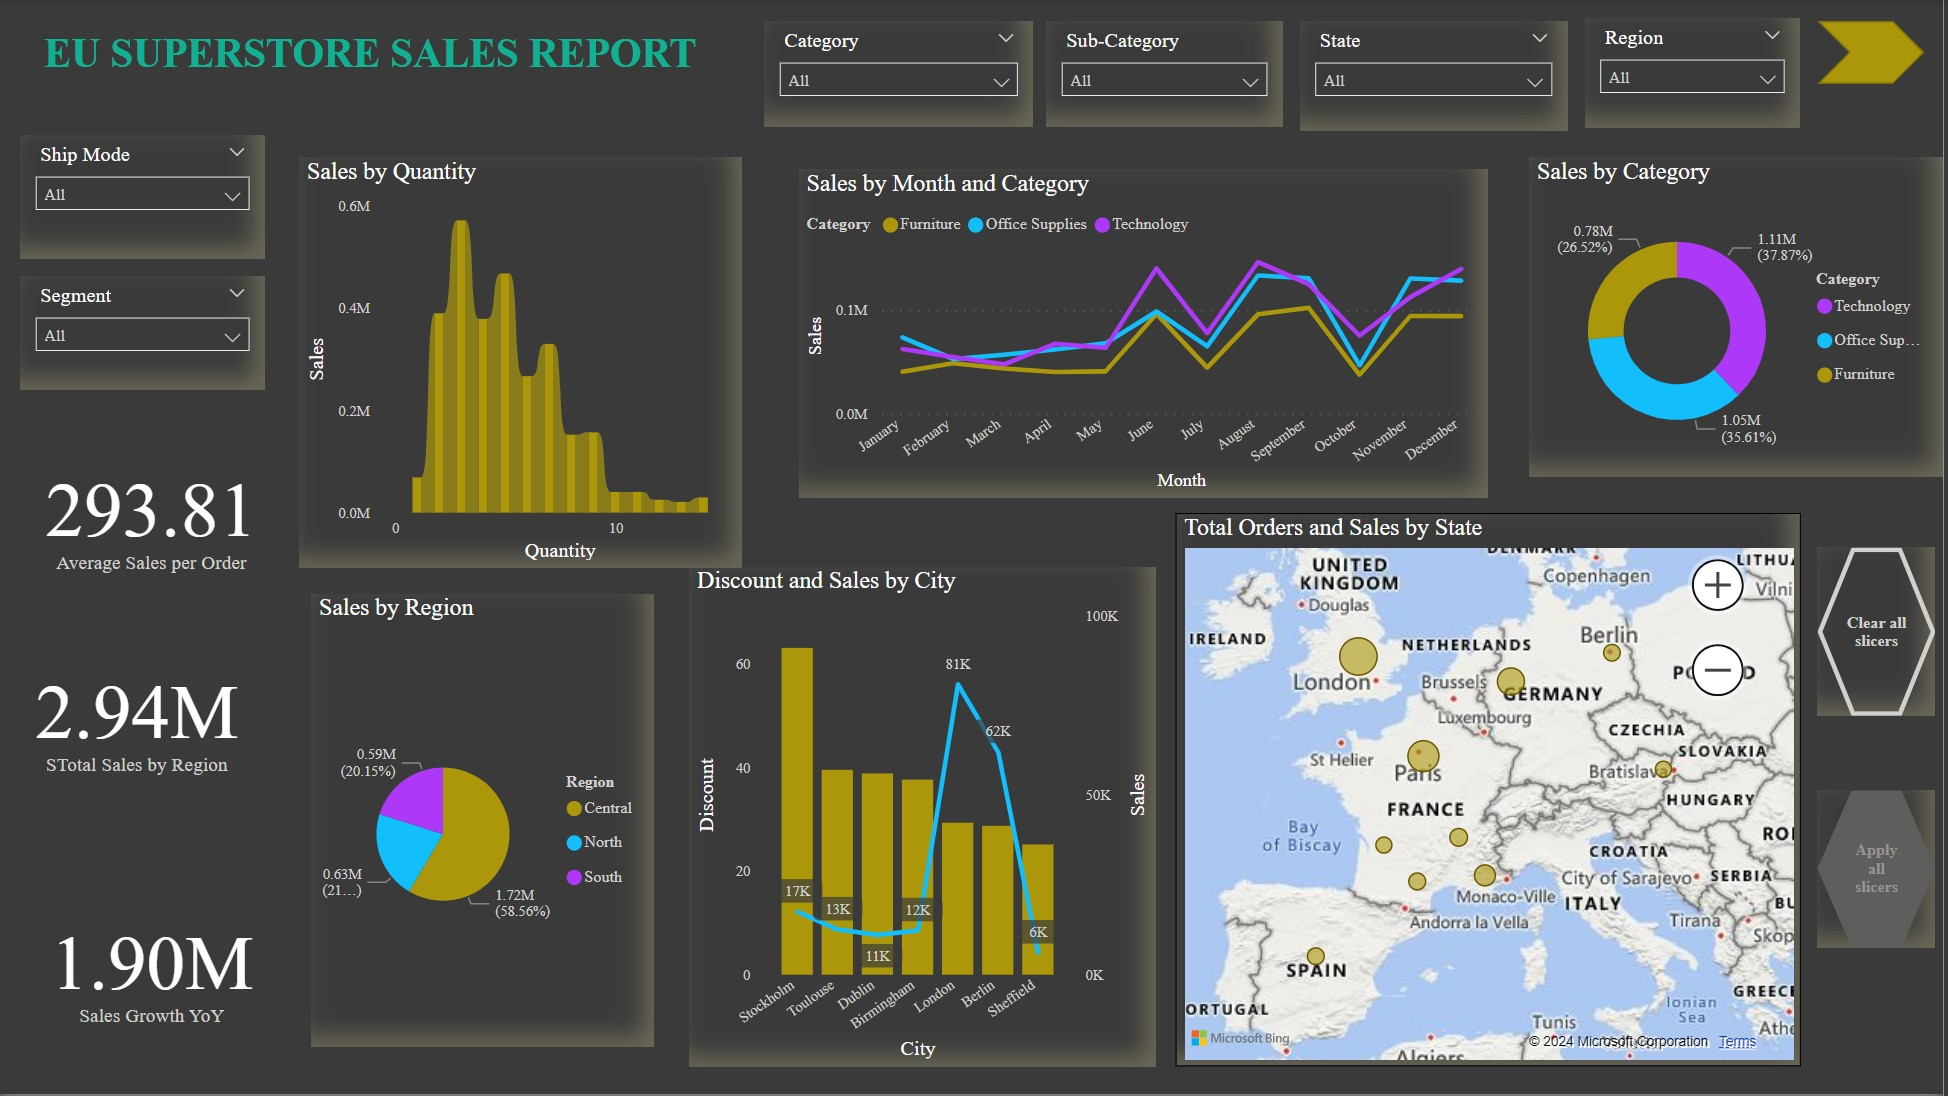

This screenshot's page, from the dashboard's own definition file:
{"tool":"powerbi","page":{"name":"Sales","canvas":[1280,720],"ordinal":0},"visuals":[{"type":"pieChart","fields":{"Category":["Orders.Region"],"Y":["Sum(Orders.Sales)"]},"box":[206.3,390.9,225.4,297.9],"z":0},{"type":"donutChart","fields":{"Category":["Orders.Category"],"Y":["Sum(Orders.Sales)"]},"box":[1007.3,103.4,272.4,210.1],"z":1000},{"type":"lineChart","fields":{"Y":["Sum(Orders.Sales)"],"Category":["Orders.Order Date.Variation.Date Hierarchy.Month"],"Series":["Orders.Category"]},"box":[527,111.2,453.6,215.7],"z":2000},{"type":"lineClusteredColumnComboChart","fields":{"Category":["Orders.City"],"Y":["Sum(Orders.Discount)"],"Y2":["Sum(Orders.Sales)"]},"box":[454.5,373.1,306.8,328.5],"z":3000},{"type":"ribbonChart","fields":{"Category":["Orders.Quantity"],"Y":["Sum(Orders.Sales)"]},"box":[198.6,103.1,291.6,269.9],"z":4000},{"type":"textbox","box":[10.7,13.8,467.8,59.6],"z":5000},{"type":"card","fields":{"Values":["Orders.Sales Growth YoY"]},"box":[10.2,581.9,182.1,107],"z":6000},{"type":"card","fields":{"Values":["Orders.STotal Sales by Region"]},"box":[0,416.3,182.1,108.2],"z":7000},{"type":"card","fields":{"Values":["Orders.Average Sales per Order"]},"box":[8.9,283.9,183.3,107],"z":8000},{"type":"slicer","fields":{"Values":["Orders.Category"]},"box":[504.2,14,177,70],"z":9000},{"type":"slicer","fields":{"Values":["Orders.Segment"]},"box":[15.3,181.9,160.5,74.9],"z":10000},{"type":"slicer","fields":{"Values":["Orders.State"]},"box":[856.9,14,175.7,72.6],"z":11000},{"type":"slicer","fields":{"Values":["Orders.Ship Mode"]},"box":[15.3,88.7,160.5,81],"z":12000},{"type":"slicer","fields":{"Values":["Orders.Region"]},"box":[1044,11.5,141.3,72.6],"z":13000},{"type":"slicer","fields":{"Values":["Orders.Sub-Category"]},"box":[690.1,14,155.3,70],"z":14000},{"type":"map","fields":{"Category":["Orders.State"],"Size":["Orders.Total Orders"]},"box":[774.1,337.4,411.2,364.1],"z":15000},{"type":"shape","box":[1197,13.8,70.3,41.3],"z":16000},{"type":"actionButton","box":[1196.8,360.3,77.7,110.8],"z":17000},{"type":"actionButton","box":[1196.8,519.5,77.7,103.1],"z":18000}]}

Visuals, with their boxes in screenshot pixels (x1, y1, x2, y2), scaled from the page's 1280x720 canvas onto the 1948x1096 screenshot:
pieChart - Orders.Region x Sum(Orders.Sales): BBox(314, 595, 657, 1049)
donutChart - Orders.Category x Sum(Orders.Sales): BBox(1533, 157, 1947, 477)
lineChart - Sum(Orders.Sales) x Orders.Order Date.Variation.Date Hierarchy.Month: BBox(802, 169, 1492, 498)
lineClusteredColumnComboChart - Orders.City x Sum(Orders.Discount): BBox(692, 568, 1159, 1068)
ribbonChart - Orders.Quantity x Sum(Orders.Sales): BBox(302, 157, 746, 568)
textbox: BBox(16, 21, 728, 112)
card - Orders.Sales Growth YoY: BBox(16, 886, 293, 1049)
card - Orders.STotal Sales by Region: BBox(0, 634, 277, 798)
card - Orders.Average Sales per Order: BBox(14, 432, 293, 595)
slicer - Orders.Category: BBox(767, 21, 1037, 128)
slicer - Orders.Segment: BBox(23, 277, 268, 391)
slicer - Orders.State: BBox(1304, 21, 1571, 132)
slicer - Orders.Ship Mode: BBox(23, 135, 268, 258)
slicer - Orders.Region: BBox(1589, 18, 1804, 128)
slicer - Orders.Sub-Category: BBox(1050, 21, 1287, 128)
map - Orders.State x Orders.Total Orders: BBox(1178, 514, 1804, 1068)
shape: BBox(1822, 21, 1929, 84)
actionButton: BBox(1821, 548, 1940, 717)
actionButton: BBox(1821, 791, 1940, 948)
